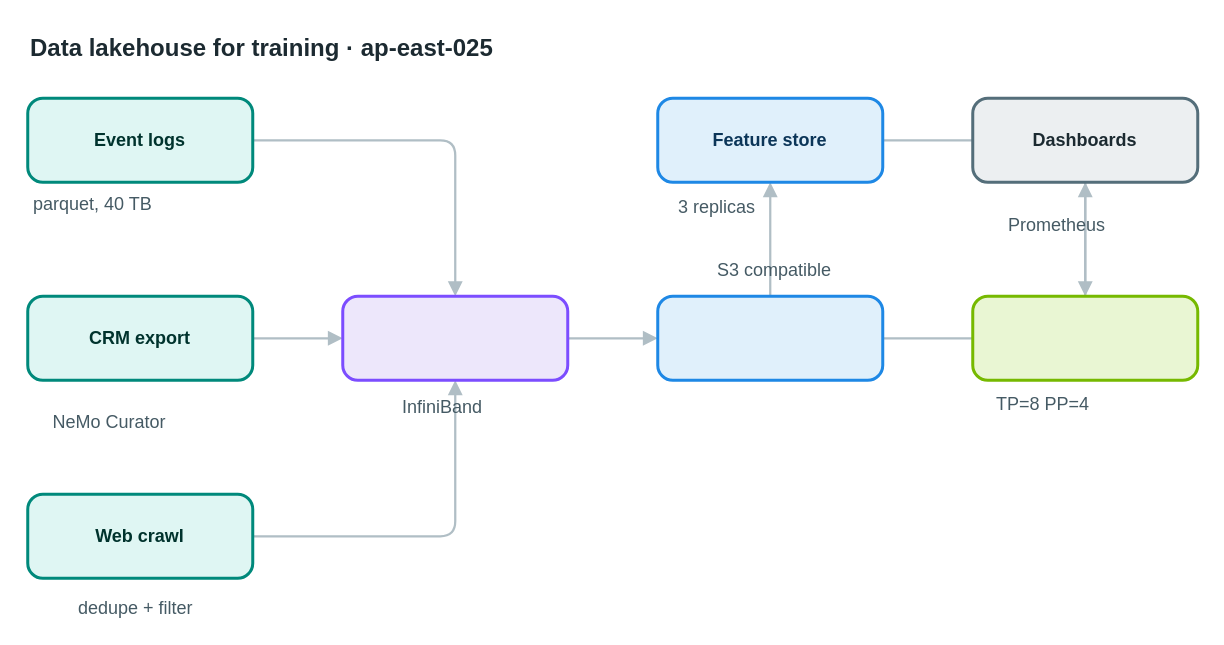
Some shapes in this 1224 by 645 pixel diagram are drawn without their labels. The shapes that lost their labels are listed below. From the top down, each one's centre as x and y in pixels, then its label:
(454,337): Stream bus
(770,337): Lakehouse
(1084,337): Training jobs
